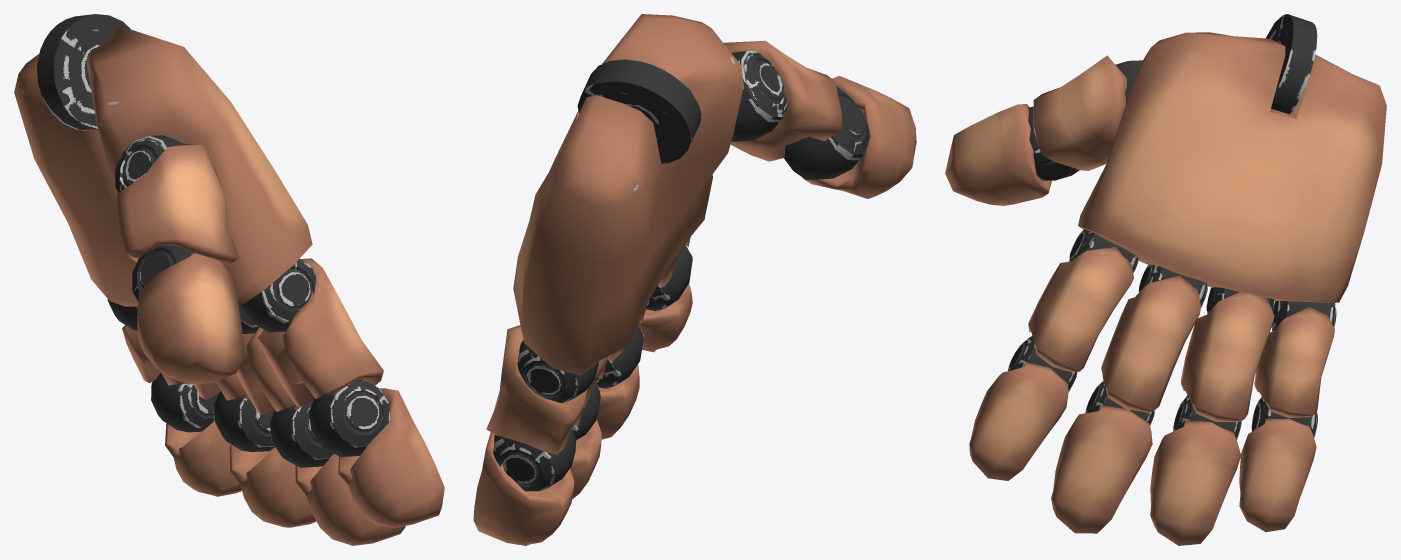
Rendered from handL.fbx.
The picture shows the model from 3 angles, left to right: view 1: azimuth 30°, elevation 25°; view 2: azimuth 150°, elevation 25°; view 3: azimuth 270°, elevation 25°; orthographic projection. The views are drawn at different scales.
Parts seen in each view (by area): view 1: matte_0.005, matte_22.001, matte_12.001, matte_11.001, matte_21.001, matte_42.001, matte_32.001, matte_52.001, matte_31.001, matte_51.001, matte_41.001; view 2: matte_0.005, matte_12.001, matte_11.001, matte_52.001, matte_51.001, matte_22.001, matte_32.001, matte_42.001; view 3: matte_0.005, matte_32.001, matte_31.001, matte_42.001, matte_21.001, matte_41.001, matte_22.001, matte_12.001, matte_11.001, matte_52.001, matte_51.001.
Boxes of the visible parts, bbox=[...] form: matte_0.005: bbox=[14, 14, 312, 306]; matte_22.001: bbox=[309, 379, 444, 527]; matte_12.001: bbox=[132, 245, 243, 384]; matte_11.001: bbox=[115, 135, 239, 264]; matte_21.001: bbox=[240, 258, 383, 406]; matte_42.001: bbox=[214, 391, 316, 527]; matte_32.001: bbox=[270, 401, 405, 545]; matte_52.001: bbox=[151, 372, 241, 496]; matte_31.001: bbox=[236, 306, 300, 414]; matte_51.001: bbox=[107, 299, 187, 385]; matte_41.001: bbox=[193, 373, 248, 400]; matte_0.005: bbox=[513, 14, 743, 375]; matte_12.001: bbox=[784, 76, 916, 198]; matte_11.001: bbox=[723, 40, 842, 161]; matte_52.001: bbox=[473, 428, 576, 545]; matte_51.001: bbox=[486, 325, 598, 454]; matte_22.001: bbox=[638, 246, 692, 352]; matte_32.001: bbox=[596, 325, 644, 439]; matte_42.001: bbox=[570, 381, 601, 498]; matte_0.005: bbox=[1078, 14, 1386, 302]; matte_32.001: bbox=[1051, 381, 1154, 533]; matte_31.001: bbox=[1101, 264, 1207, 412]; matte_42.001: bbox=[1150, 395, 1241, 545]; matte_21.001: bbox=[1028, 229, 1138, 372]; matte_41.001: bbox=[1180, 287, 1274, 421]; matte_22.001: bbox=[969, 336, 1077, 480]; matte_12.001: bbox=[945, 104, 1079, 205]; matte_11.001: bbox=[1033, 55, 1142, 170]; matte_52.001: bbox=[1239, 397, 1317, 532]; matte_51.001: bbox=[1254, 301, 1336, 417].
Bounding box in the file's own units: 329 × 475 × 535.
